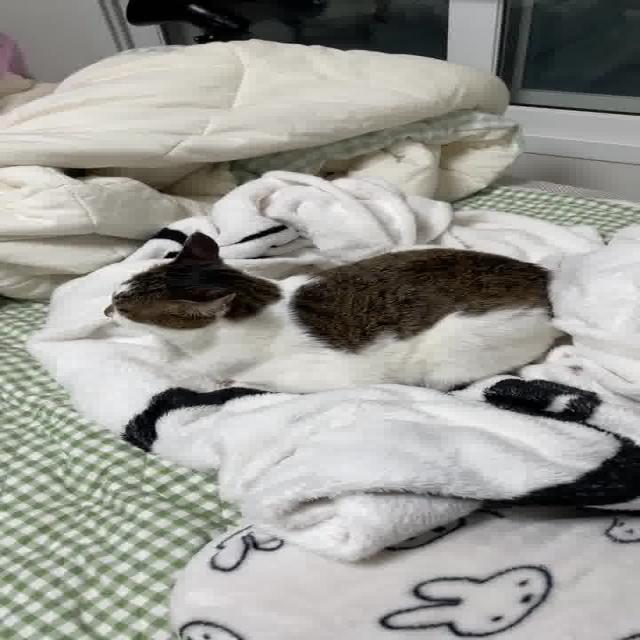cat: (86, 225, 584, 403)
